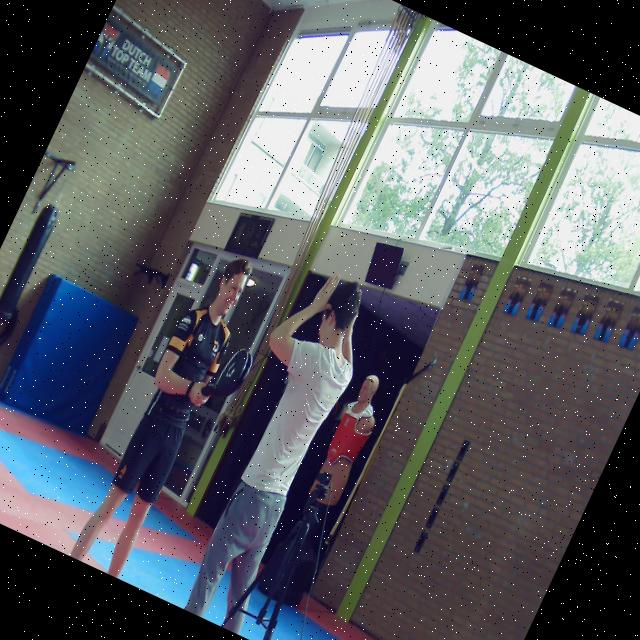paddle: (201, 347, 253, 398)
